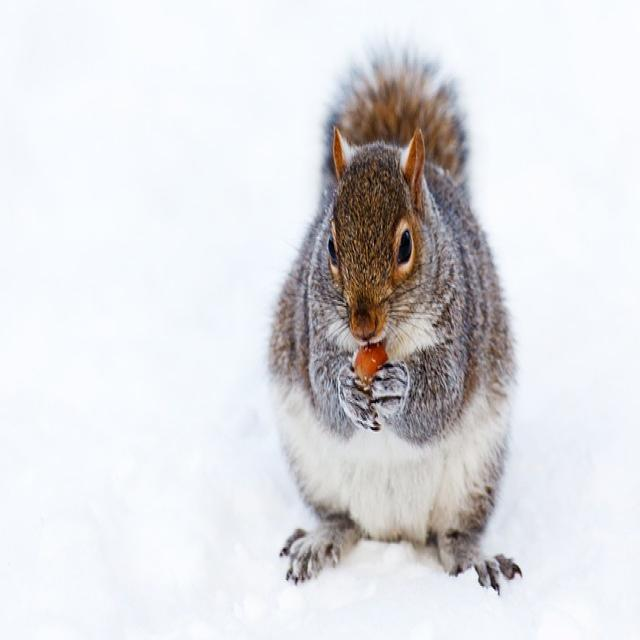Herbivorous: (266, 54, 520, 588)
